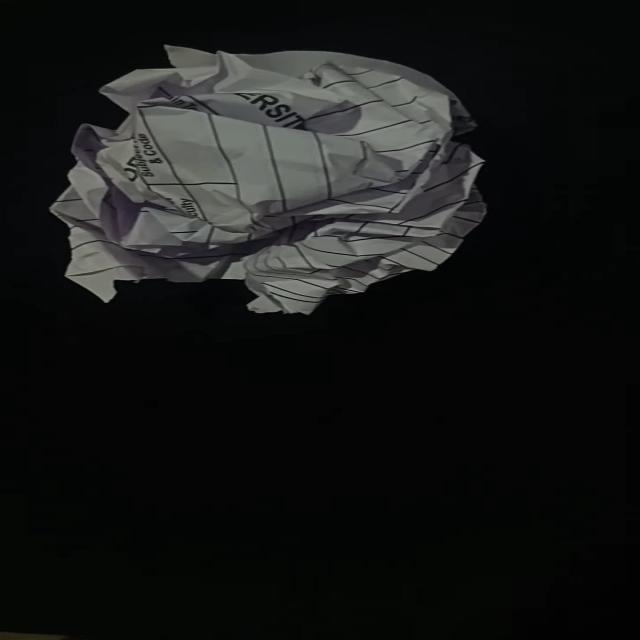PaperBall: (32, 35, 539, 317)
